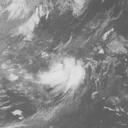cyclone: (36, 56, 85, 92)
